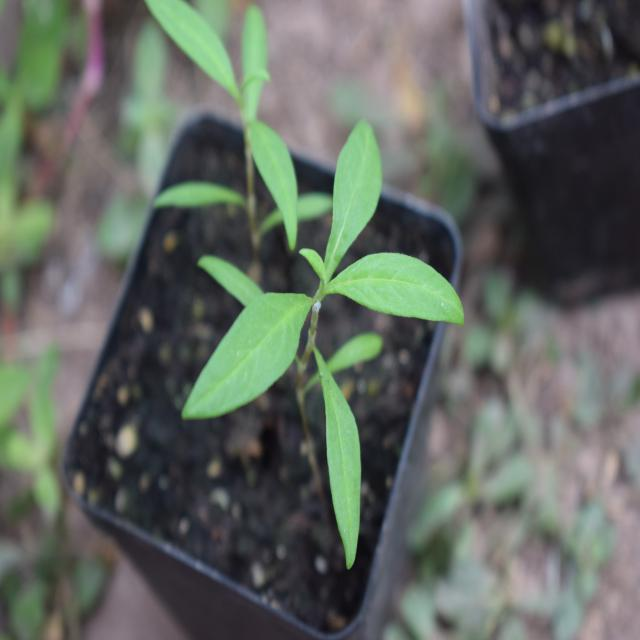white_smart_weed: (178, 136, 431, 529)
